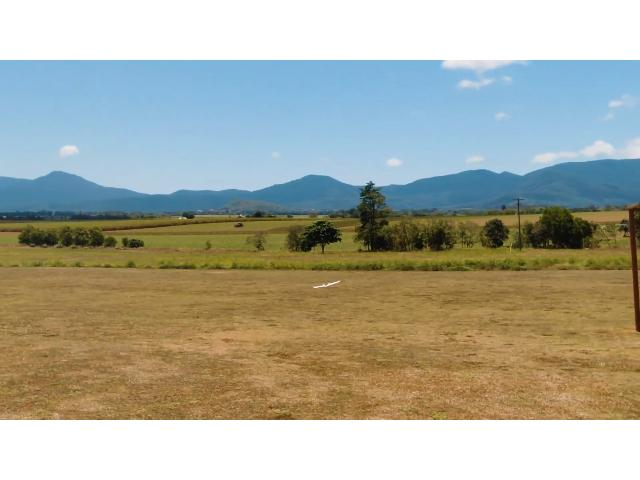Anti-Drone: (308, 275, 344, 292)
